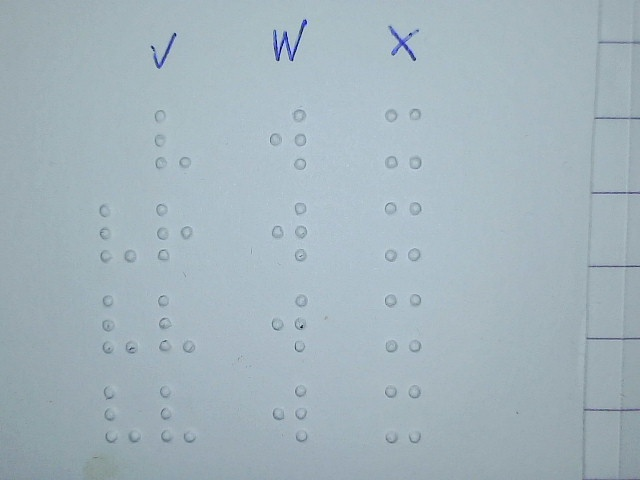V: (152, 107, 193, 171), (98, 202, 139, 266), (156, 291, 197, 355), (157, 383, 198, 447), (102, 382, 143, 446)
W: (268, 106, 309, 170), (269, 199, 310, 263), (269, 291, 310, 355), (270, 381, 311, 445)
X: (383, 106, 424, 170), (383, 199, 424, 263), (382, 290, 423, 354), (382, 382, 423, 446)
